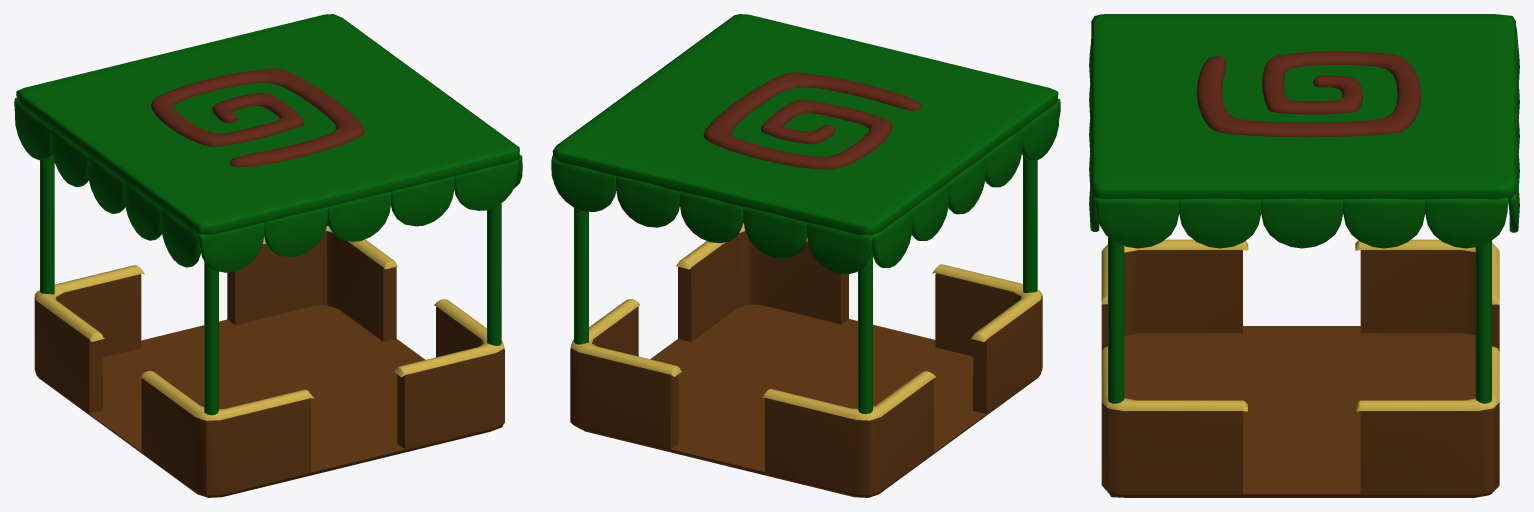
The model's file is Elevator.fbx.
3 views of the same model, side by side, from view 1: azimuth 30°, elevation 25°; view 2: azimuth 150°, elevation 25°; view 3: azimuth 270°, elevation 25° (orthographic). The views are drawn at different scales.
Parts seen in each view (by area): view 1: Elevator4, Elevator2, Elevator6, Elevator1; view 2: Elevator4, Elevator2, Elevator6, Elevator1; view 3: Elevator2, Elevator4, Elevator6, Elevator1.
Part boxes in pixels (x1,y1,x2,y2): Elevator4: (34,226,504,497); Elevator2: (14,14,522,272); Elevator6: (151,68,364,167); Elevator1: (40,154,501,415); Elevator4: (570,223,1042,497); Elevator2: (551,14,1060,274); Elevator6: (703,72,920,169); Elevator1: (574,156,1037,414); Elevator2: (1089,14,1519,248); Elevator4: (1101,239,1499,497); Elevator6: (1196,51,1421,137); Elevator1: (1108,237,1491,403).
Bounding box in the file's own units: 2.48 × 2.09 × 2.51.
